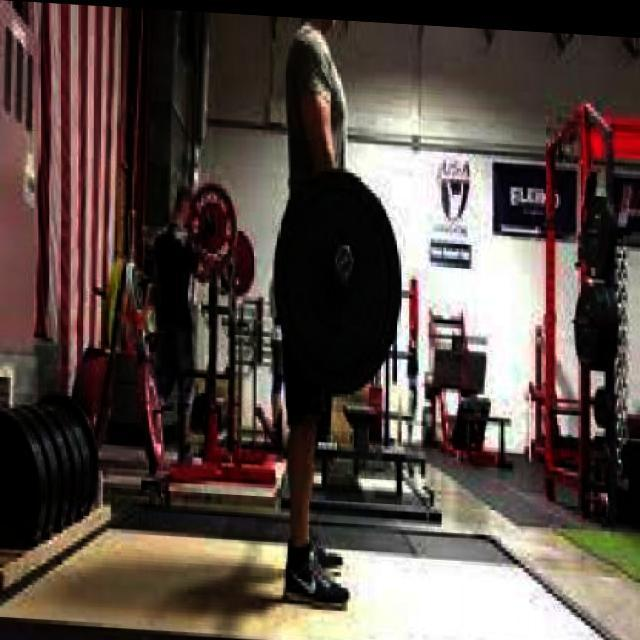barbell: (266, 160, 409, 398)
